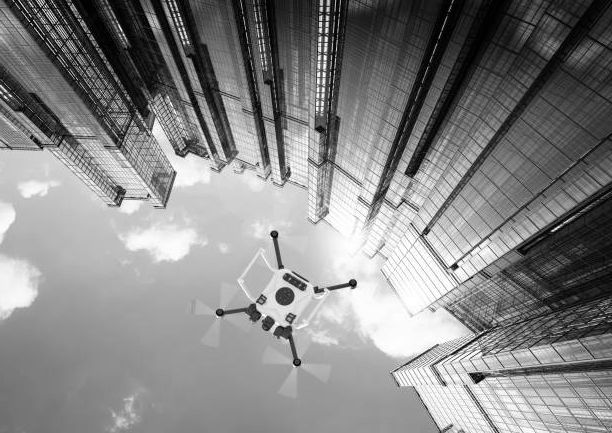Drone: (185, 211, 365, 393)
